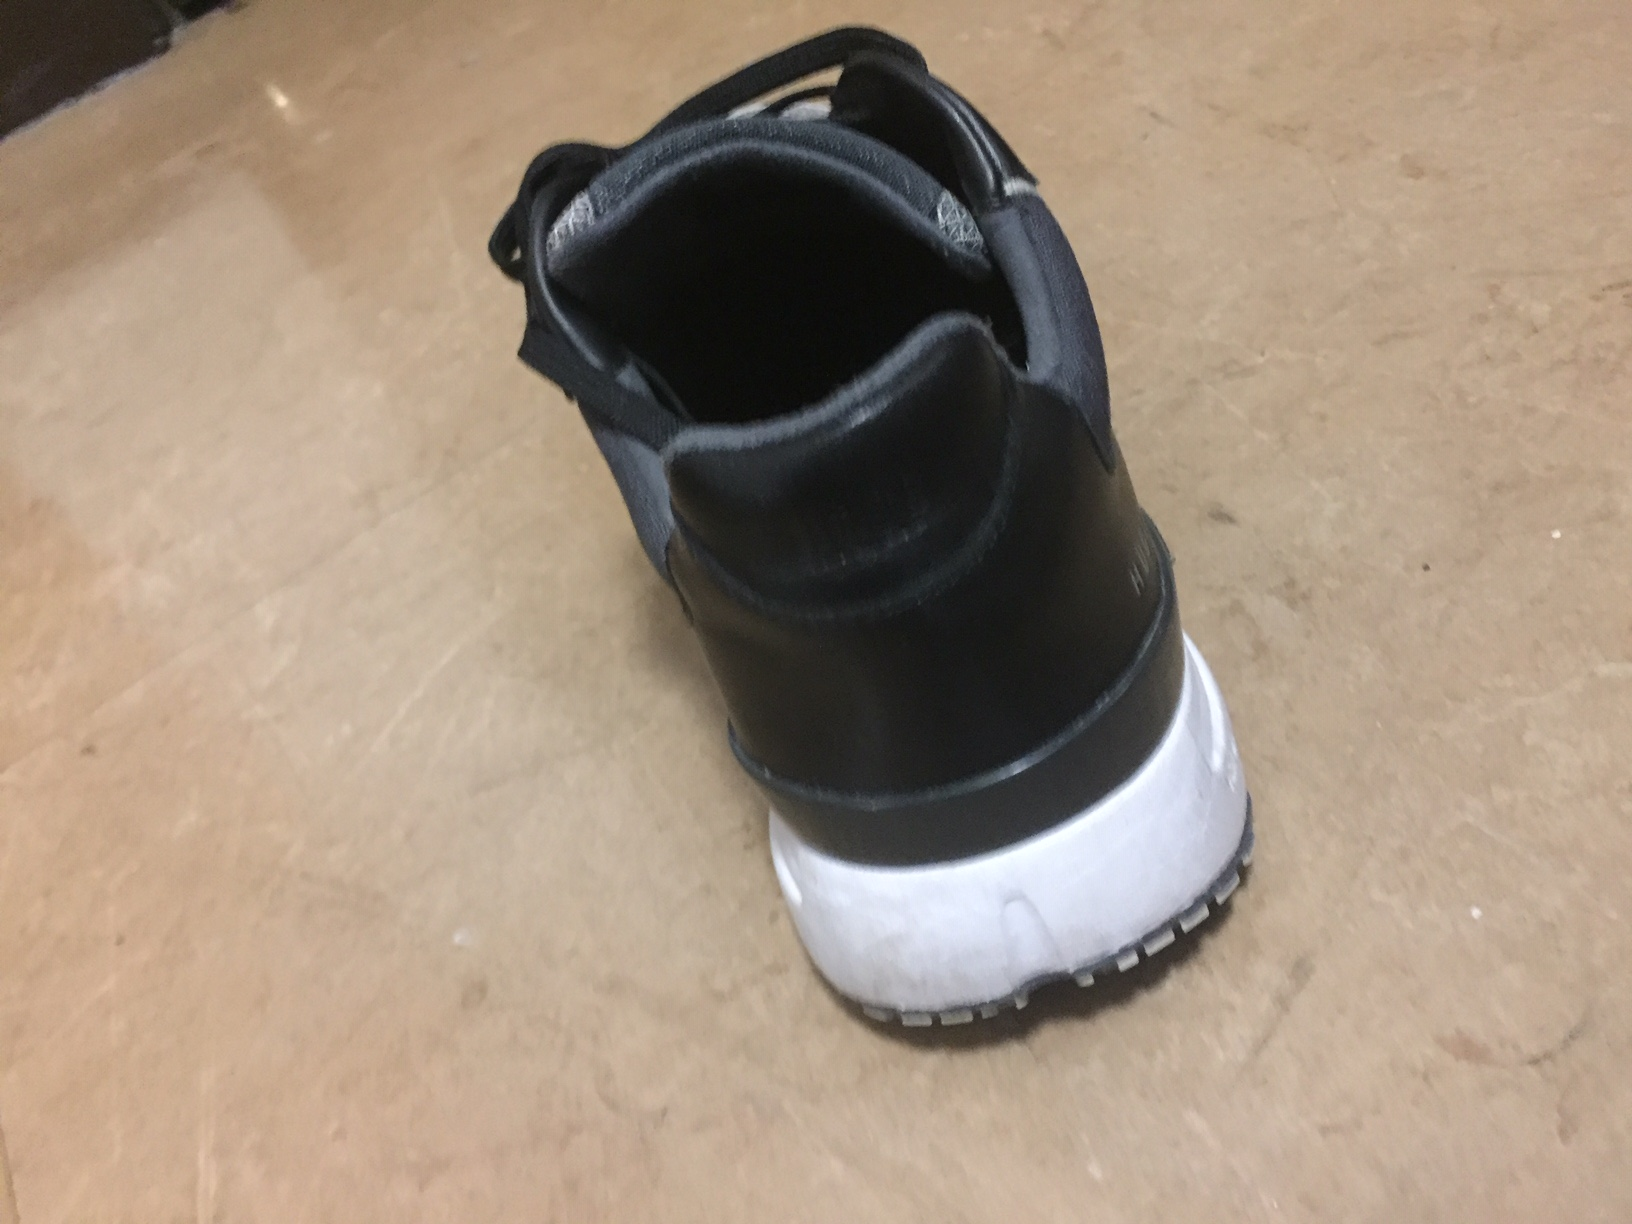car: (456, 41, 1268, 1074)
